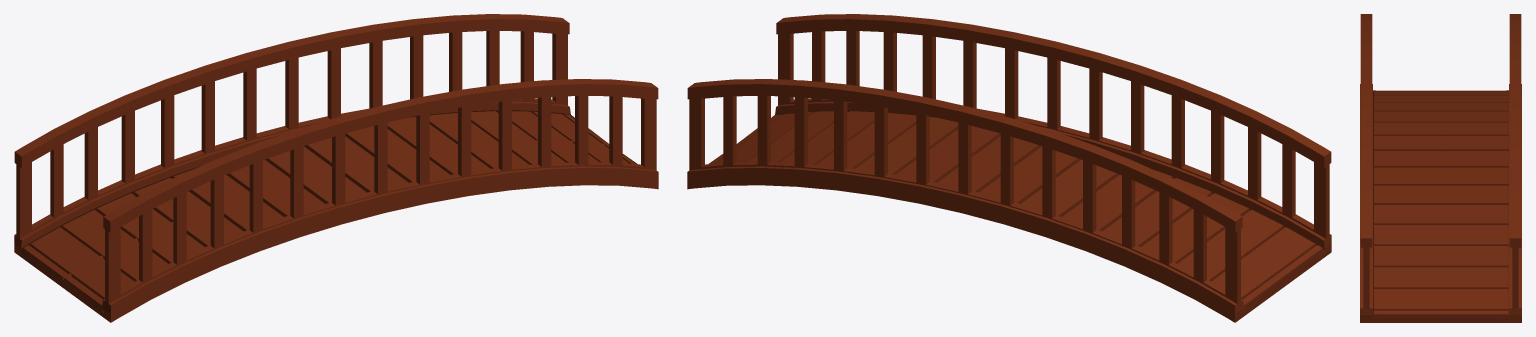
File: bridge.glb
The picture shows the model from 3 angles, left to right: view 1: azimuth 30°, elevation 25°; view 2: azimuth 150°, elevation 25°; view 3: azimuth 270°, elevation 25°; orthographic projection. The views are drawn at different scales.
Parts seen in each view (by area): view 1: Cube.001; view 2: Cube.001; view 3: Cube.001.
Boxes of the visible parts, x1,y1,x2,y2 form: Cube.001: (14,14,658,322); Cube.001: (687,14,1331,322); Cube.001: (1360,14,1521,322).
Size of the model in its own units: 6.67 by 1.67 by 2.03.
